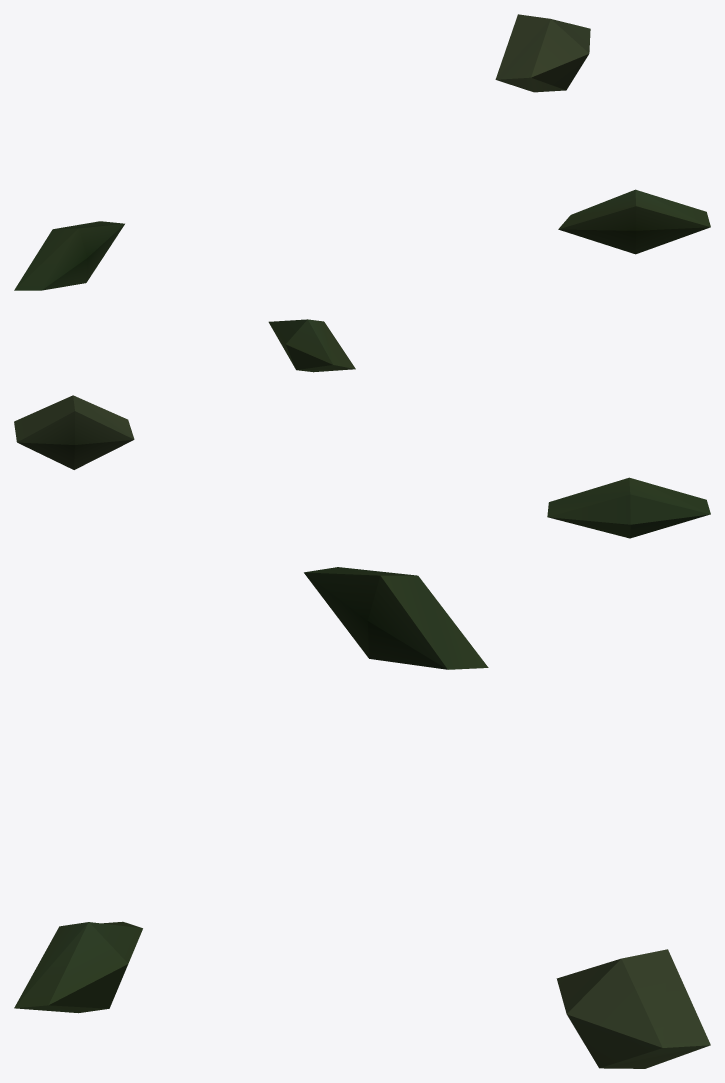
The model's file is twig_scatter.glb.
3 views of the same model, one above another, from view 1: azimuth 30°, elevation 25°; view 2: azimuth 150°, elevation 25°; view 3: azimuth 270°, elevation 25° (orthographic). The views are drawn at different scales.
Parts seen in each view (by area): view 1: twig_scatter.glb; view 2: twig_scatter.glb; view 3: twig_scatter.glb.
Part boxes in pixels (x1,y1,x2,y2): twig_scatter.glb: [14, 14, 710, 290]; twig_scatter.glb: [14, 319, 710, 538]; twig_scatter.glb: [14, 567, 710, 1068].
Size of the model in its own units: 1 by 0.1144 by 0.5816.
